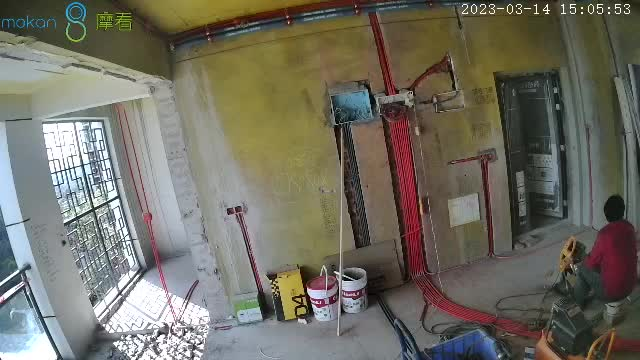people: (578, 193, 636, 311)
window: (42, 123, 141, 300)
